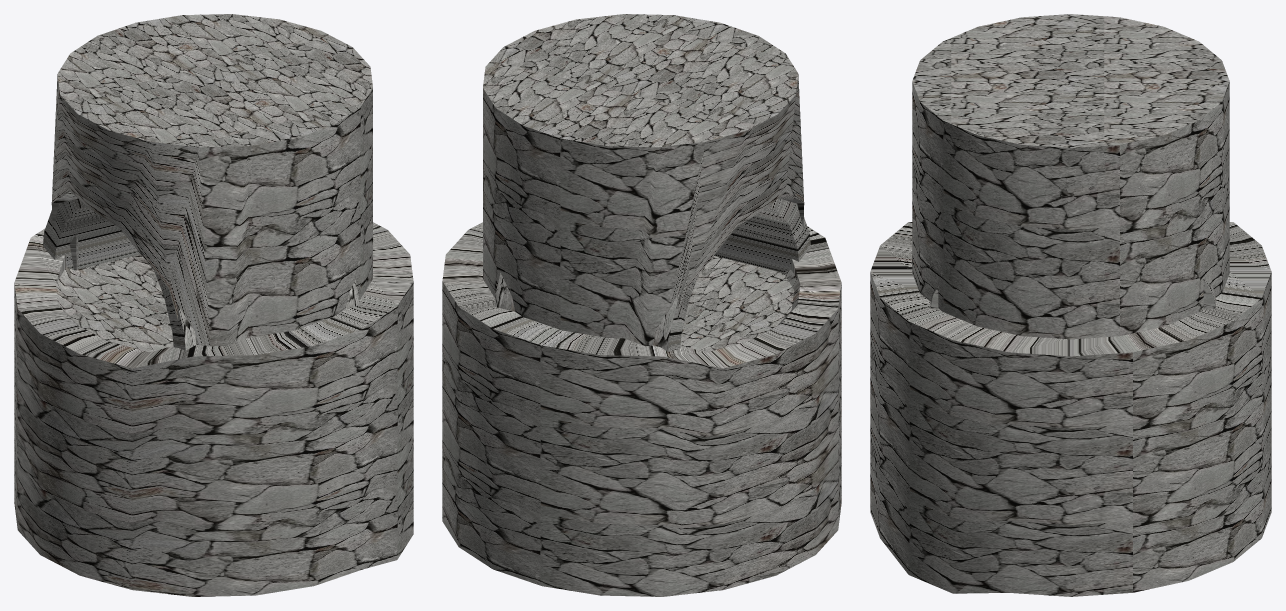
Rendered from Furnace.fbx.
3 views of the same model, side by side, from view 1: azimuth 30°, elevation 25°; view 2: azimuth 150°, elevation 25°; view 3: azimuth 270°, elevation 25° (orthographic).
Parts seen in each view (by area): view 1: Furnace; view 2: Furnace; view 3: Furnace.
Part boxes in pixels (<box>): Furnace: <box>14,14,413,596</box>; Furnace: <box>442,14,841,596</box>; Furnace: <box>870,14,1271,596</box>.
Bounding box in the file's own units: 2 × 2.44 × 2.
